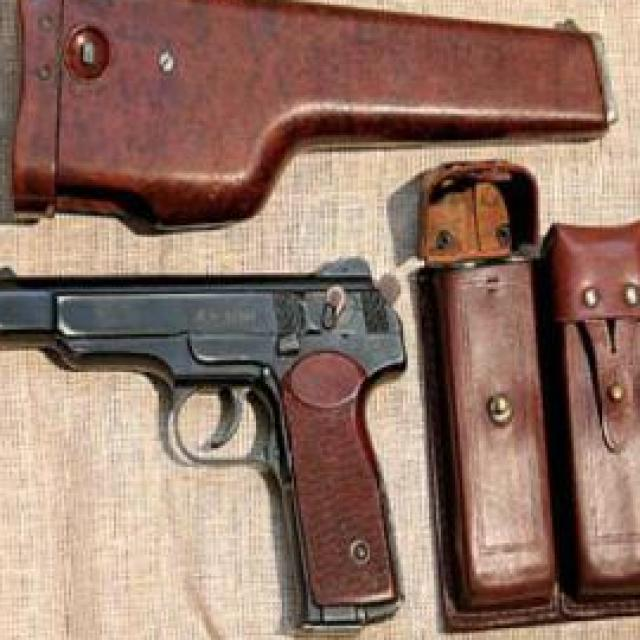pistol: (0, 261, 410, 635)
